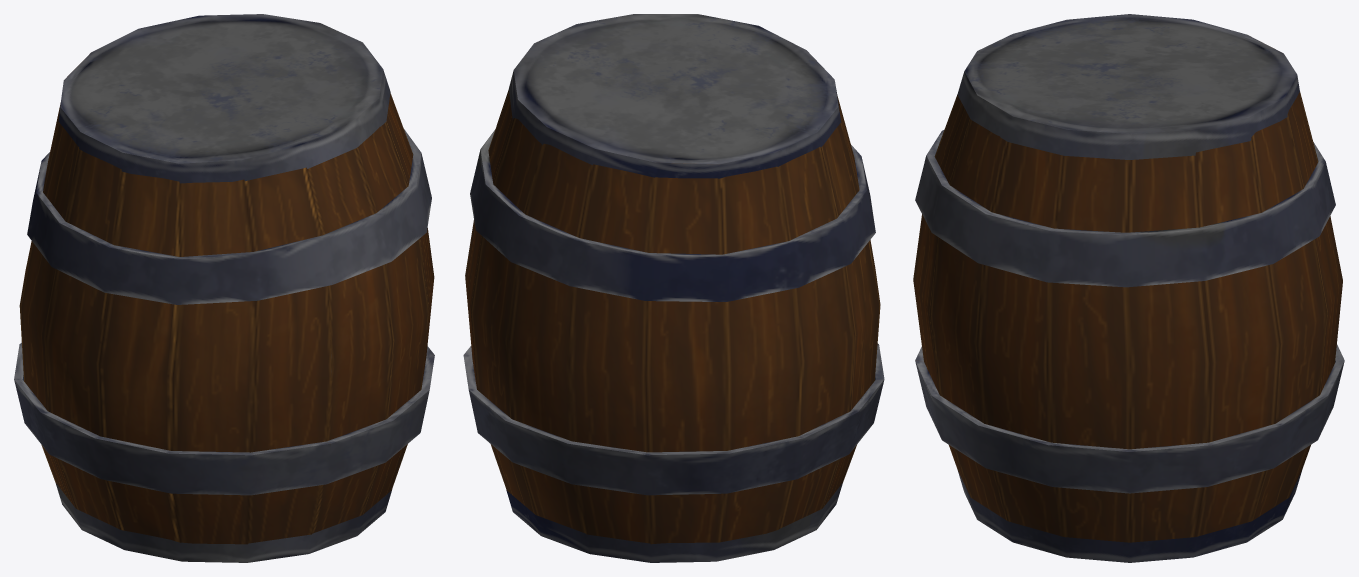
File: V_Barril_Claro1.fbx
3 renders of one model, left to right at view 1: azimuth 30°, elevation 25°; view 2: azimuth 150°, elevation 25°; view 3: azimuth 270°, elevation 25°, orthographic.
Parts seen in each view (by area): view 1: V_Barril_Claro1; view 2: V_Barril_Claro1; view 3: V_Barril_Claro1.
Part boxes in pixels (x1,y1,x2,y2): V_Barril_Claro1: (14, 14, 434, 562); V_Barril_Claro1: (463, 14, 884, 562); V_Barril_Claro1: (913, 14, 1344, 562).
Size of the model in its own units: 97.91 by 106 by 97.58.
